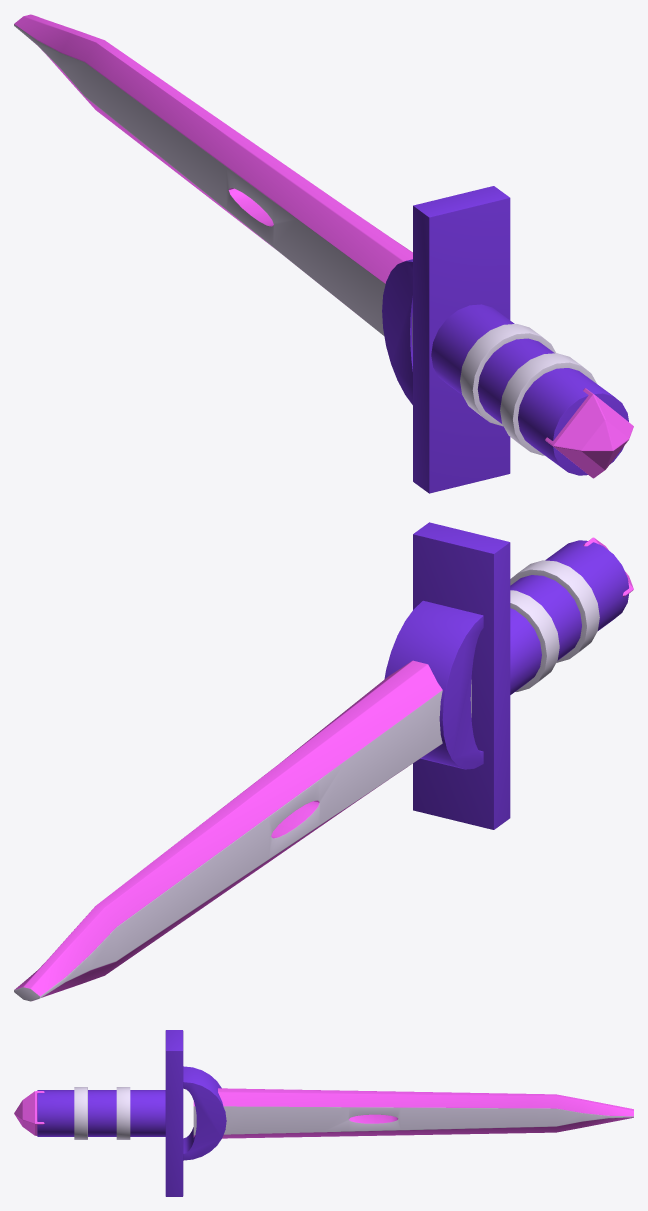
The model's file is Sword_RiftDagger.glb.
3 renders of one model, top to bottom at view 1: azimuth 30°, elevation 25°; view 2: azimuth 150°, elevation 25°; view 3: azimuth 270°, elevation 25°, orthographic. The views are drawn at different scales.
Visible parts, largest first — view 1: Sword_RiftDagger; view 2: Sword_RiftDagger; view 3: Sword_RiftDagger.
Part boxes in pixels (<box>): Sword_RiftDagger: <box>14,14,633,493</box>; Sword_RiftDagger: <box>14,522,633,1001</box>; Sword_RiftDagger: <box>14,1030,633,1196</box>.
Size of the model in its own units: 0.086 by 0.26 by 1.
Materials: 1 (1 with a texture image).
